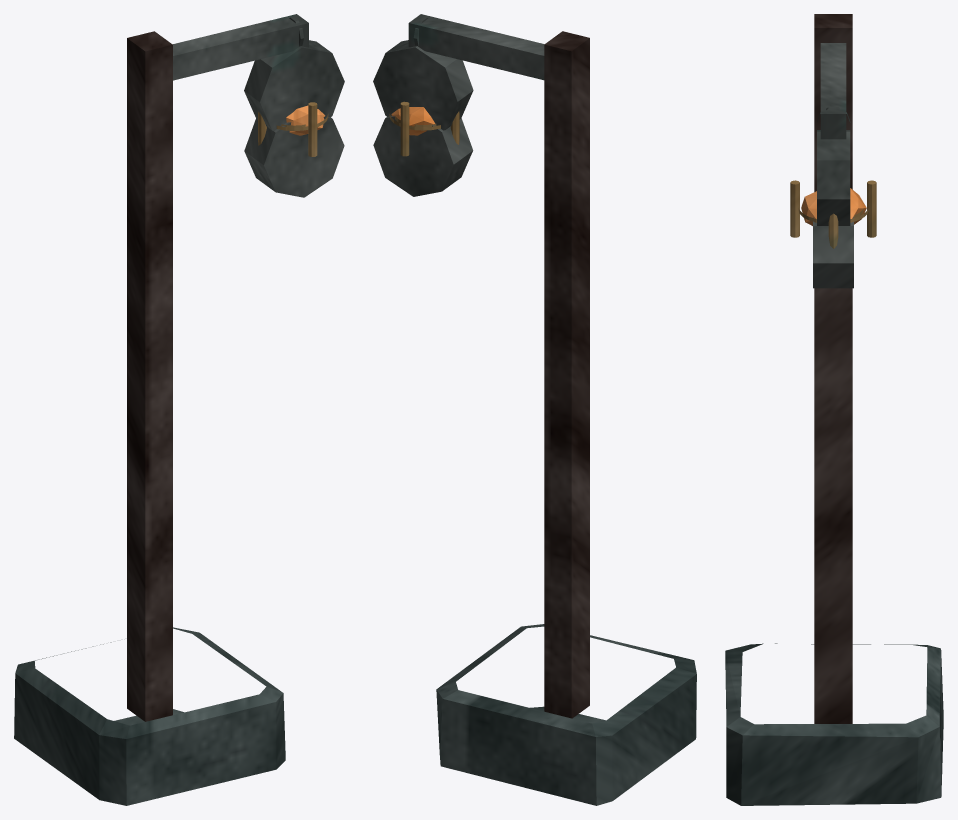
File: 0707_lantern_post_07.glb
The picture shows the model from 3 angles, left to right: view 1: azimuth 30°, elevation 25°; view 2: azimuth 150°, elevation 25°; view 3: azimuth 270°, elevation 25°; orthographic projection. The views are drawn at different scales.
Visible parts, largest first — view 1: wood_dark, stone_dark, iron, brass; view 2: wood_dark, stone_dark, iron, brass; view 3: stone_dark, wood_dark, iron, brass, amber.
Boxes of the visible parts, bbox=[...] form: wood_dark: bbox=[127, 31, 172, 721]; stone_dark: bbox=[14, 627, 285, 805]; iron: bbox=[173, 14, 344, 197]; brass: bbox=[258, 102, 328, 156]; wood_dark: bbox=[544, 31, 589, 718]; stone_dark: bbox=[436, 624, 696, 805]; iron: bbox=[373, 14, 544, 196]; brass: bbox=[389, 101, 459, 156]; stone_dark: bbox=[725, 643, 943, 805]; wood_dark: bbox=[814, 14, 852, 723]; iron: bbox=[813, 43, 853, 288]; brass: bbox=[790, 180, 876, 248]; amber: bbox=[801, 188, 866, 225].
Bounding box in the file's own units: 1.31 × 3.22 × 0.8555.
5 materials, 5 textured.
